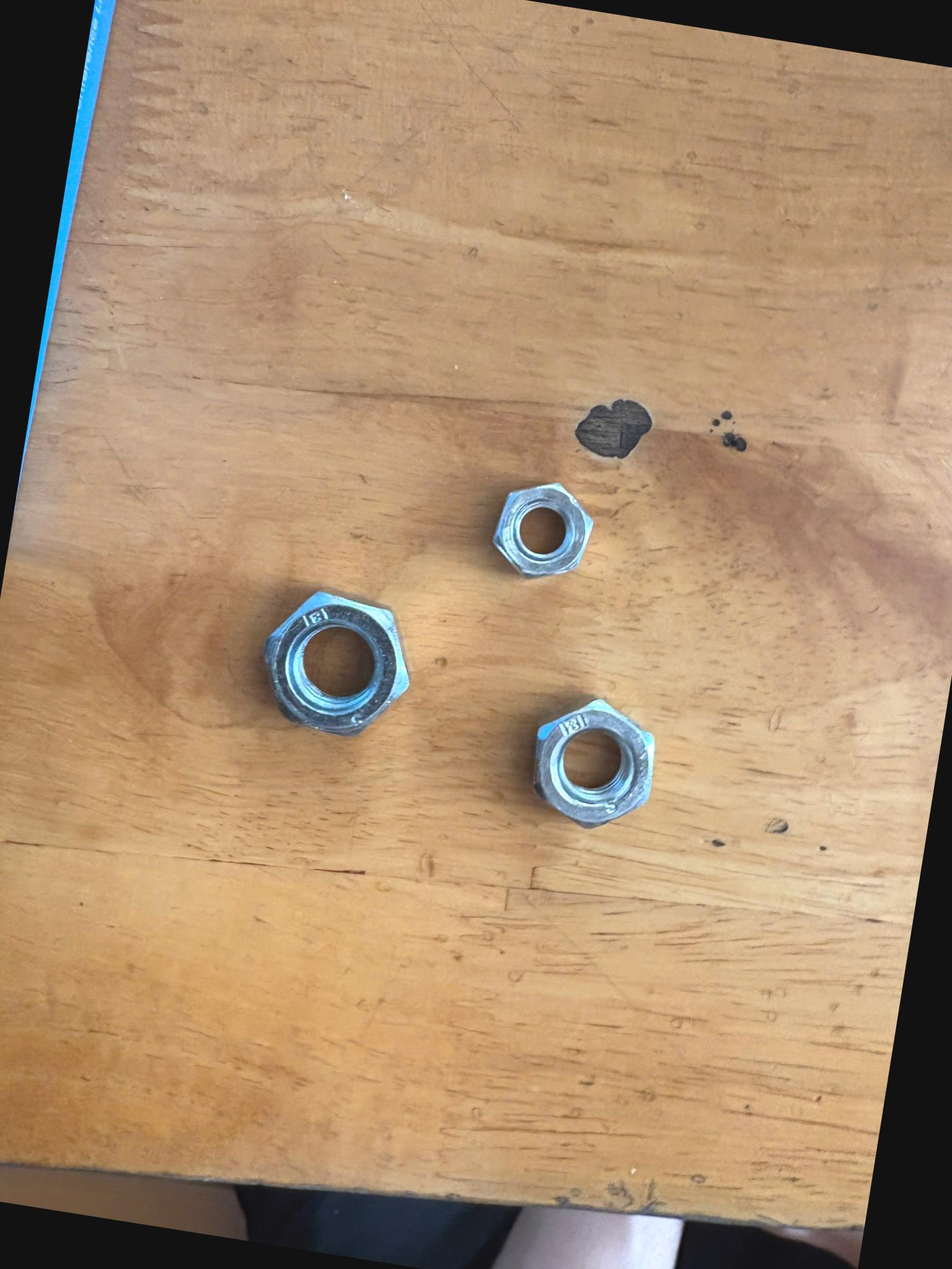nut: (240, 567, 426, 771), (474, 457, 612, 601)
